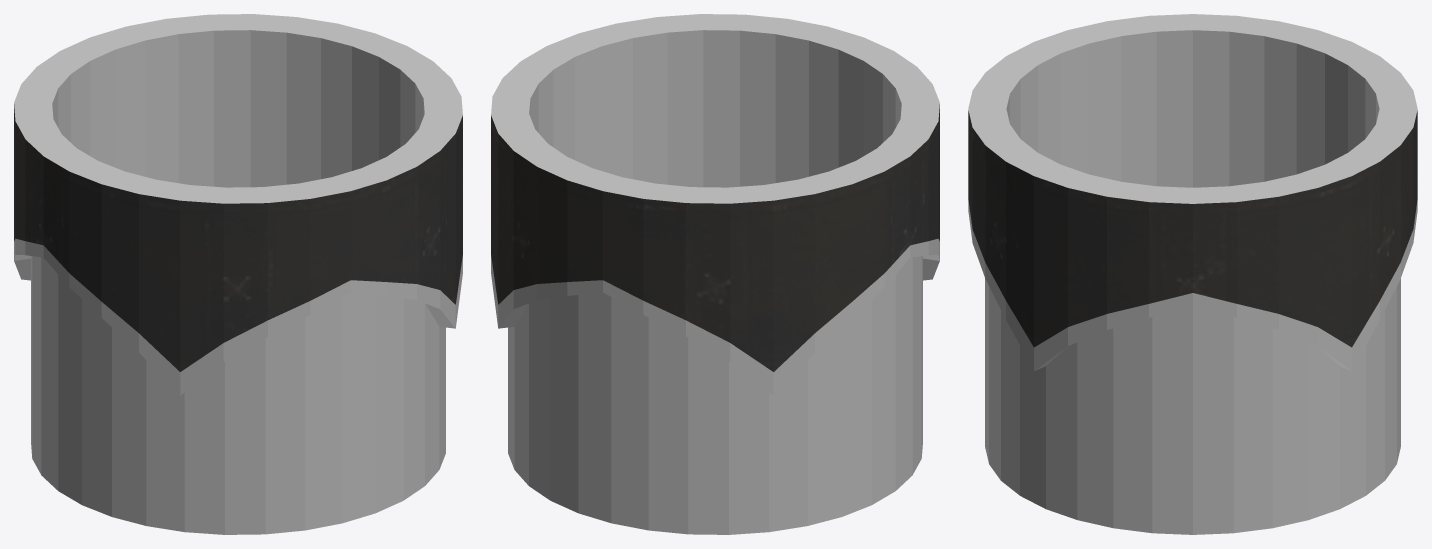
The model's file is towertopv1.fbx.
3 views of the same model, side by side, from view 1: azimuth 30°, elevation 25°; view 2: azimuth 150°, elevation 25°; view 3: azimuth 270°, elevation 25° (orthographic).
Visible parts, largest first — view 1: towerbase.002; view 2: towerbase.002; view 3: towerbase.002.
Boxes of the visible parts, box(x1,y1,x2,y2) form: towerbase.002: box(14, 14, 462, 534); towerbase.002: box(491, 14, 939, 534); towerbase.002: box(968, 14, 1417, 534).
Bounding box in the file's own units: 241 × 200 × 241.
